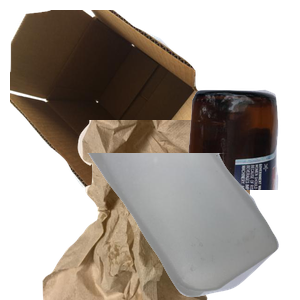cardboard: (10, 10, 218, 190)
glass: (87, 87, 300, 267)
plastic: (84, 153, 300, 300)
trash: (40, 120, 280, 300)
